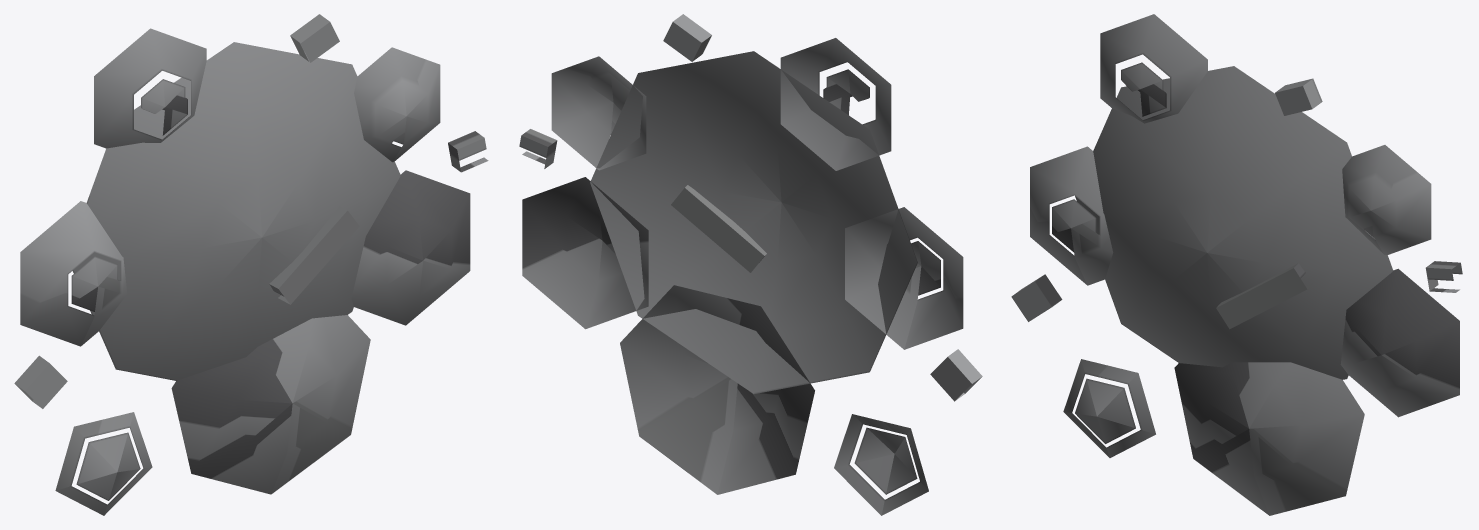
3 renders of one model, left to right at view 1: azimuth 30°, elevation 25°; view 2: azimuth 150°, elevation 25°; view 3: azimuth 330°, elevation 25°, orthographic. The views are drawn at different scales.
Bounding box in the file's own units: 1 × 1.02 × 0.1182.
